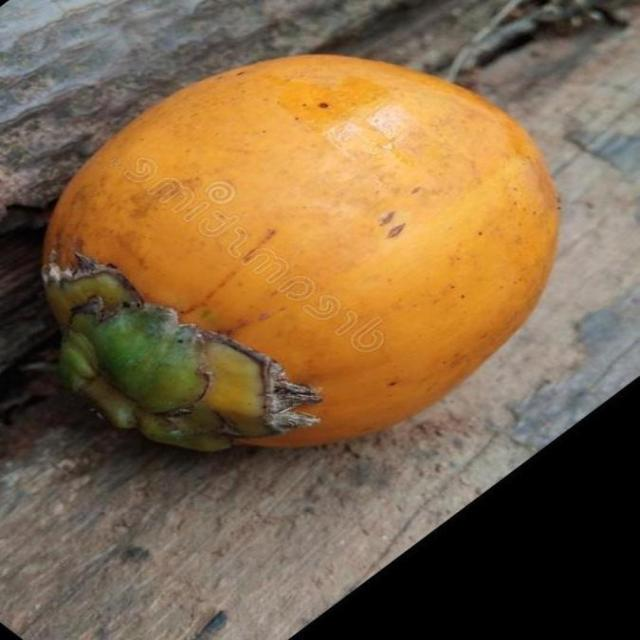good: (38, 54, 559, 454)
